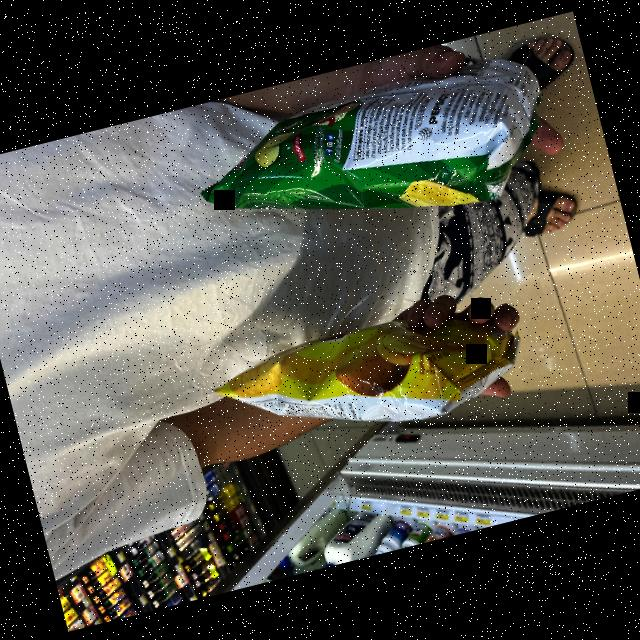snack_bag: (179, 40, 566, 258), (197, 276, 532, 474)
